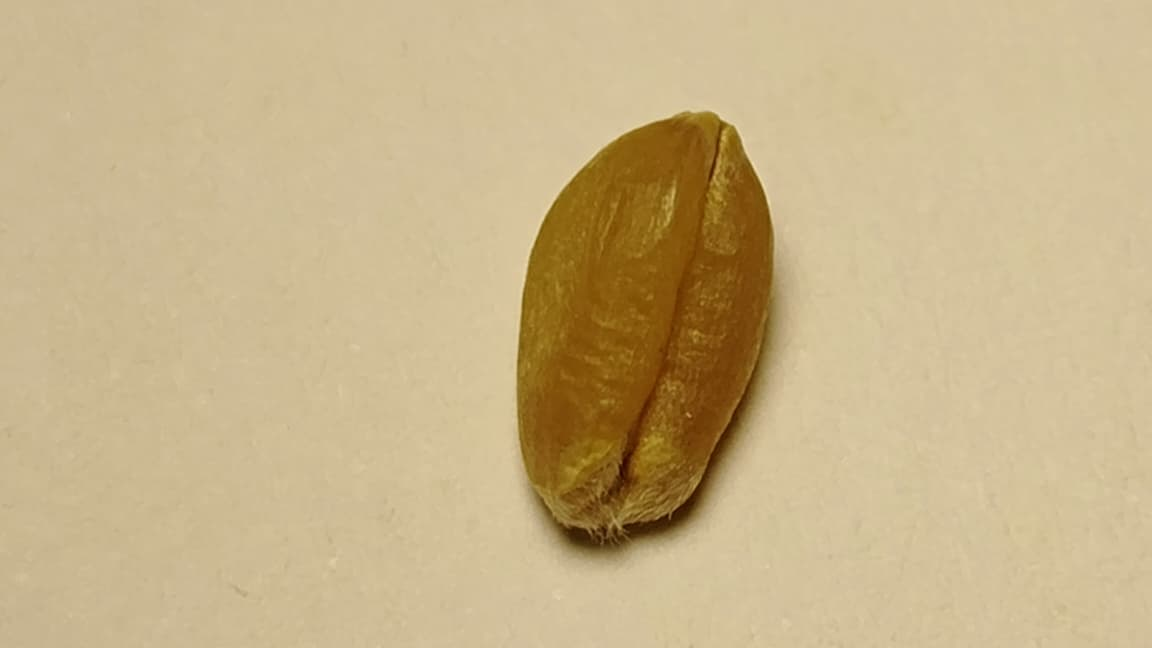healthy: (518, 112, 771, 537)
